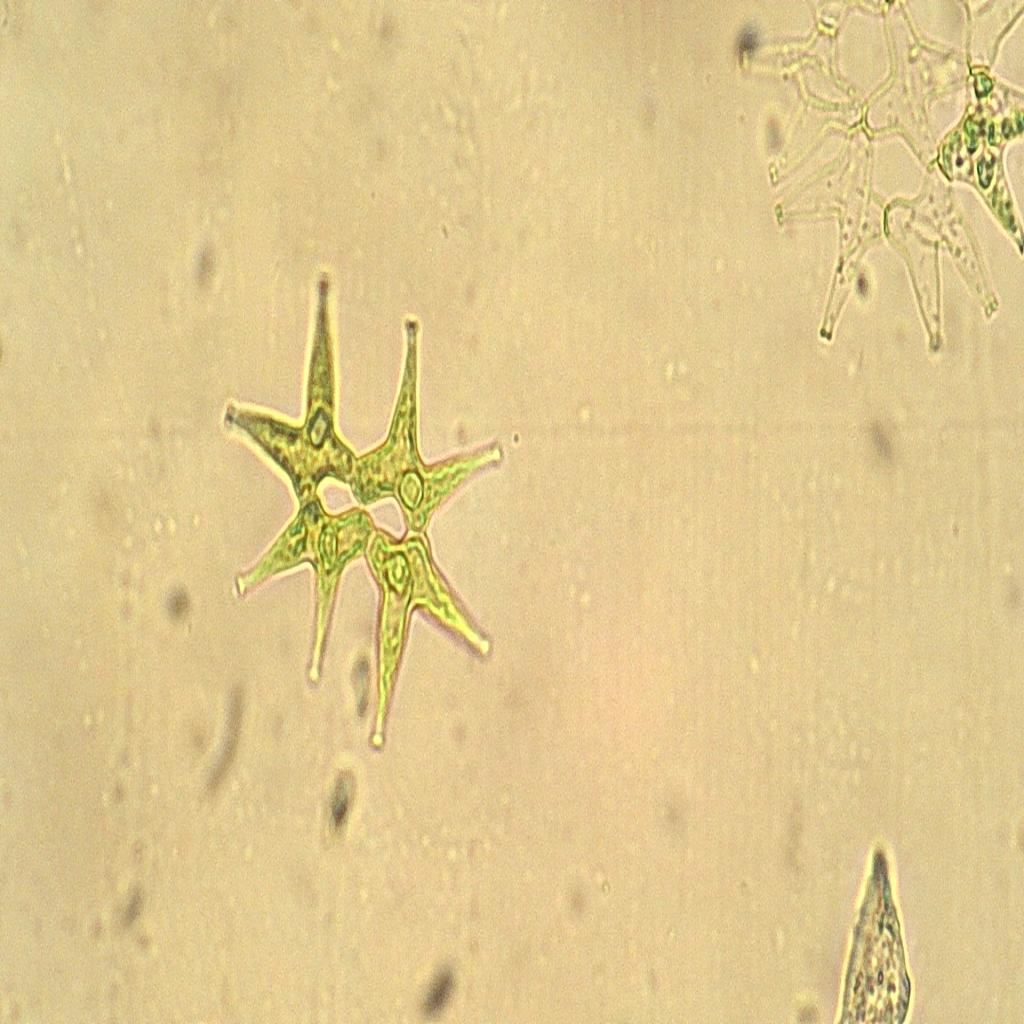Pediastrum_CF: (207, 254, 510, 777)
